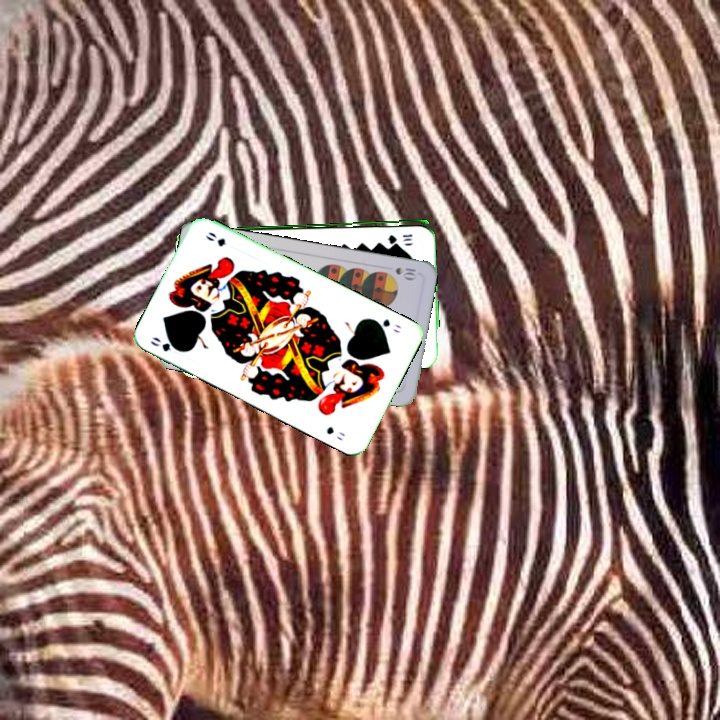G10: (384, 230, 415, 244)
GO: (146, 333, 186, 355), (369, 314, 403, 336)
S10: (391, 263, 419, 282)
